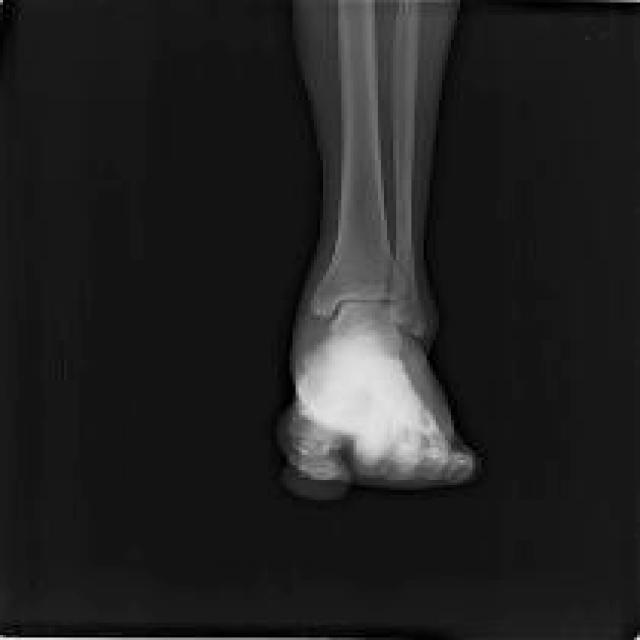normal: (286, 0, 475, 485)
